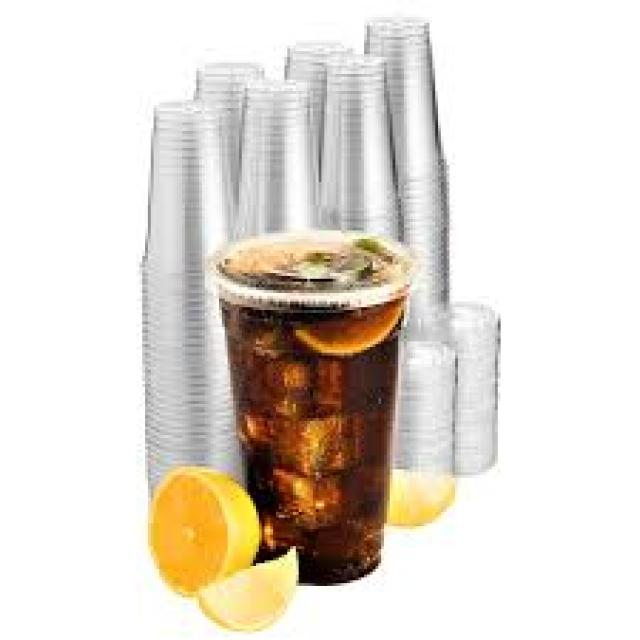bottle: (212, 232, 411, 583)
